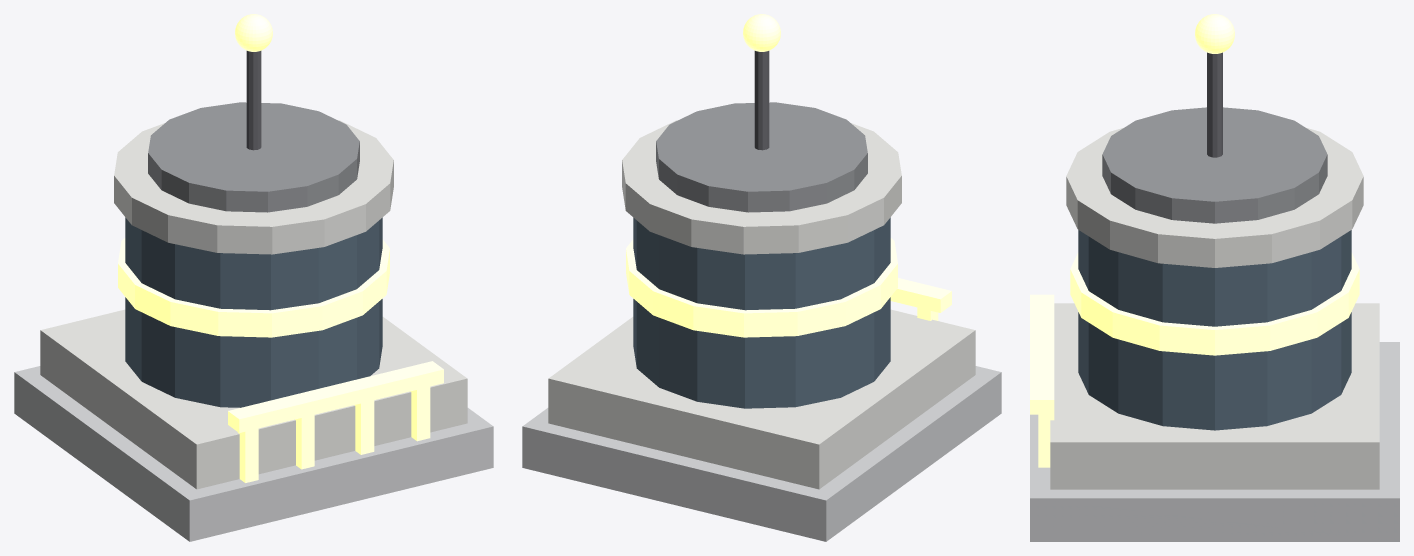
Rendered from exchange_hub.glb.
The picture shows the model from 3 angles, left to right: view 1: azimuth 30°, elevation 25°; view 2: azimuth 150°, elevation 25°; view 3: azimuth 270°, elevation 25°; orthographic projection. The views are drawn at different scales.
Visible parts, largest first — view 1: rotunda, podium_base, podium_upper, dome_base, crown, ticker_ring, portico, spire, Beacon, pillar_2, pillar_3, pillar_0 (+1 smaller); view 2: podium_upper, rotunda, podium_base, dome_base, crown, ticker_ring, spire, portico, Beacon; view 3: rotunda, podium_upper, podium_base, dome_base, crown, ticker_ring, portico, spire, Beacon, pillar_3.
Part boxes in pixels (x1,y1,x2,y2): rotunda: [125, 217, 382, 407]; podium_base: [14, 366, 493, 541]; podium_upper: [40, 309, 467, 489]; dome_base: [148, 102, 359, 212]; crown: [114, 120, 393, 254]; ticker_ring: [118, 238, 389, 337]; portico: [228, 361, 443, 432]; spire: [246, 51, 261, 150]; Beacon: [235, 14, 272, 51]; pillar_2: [354, 400, 374, 454]; pillar_3: [410, 386, 430, 441]; pillar_0: [237, 428, 258, 482]; podium_upper: [548, 309, 975, 489]; rotunda: [633, 217, 890, 408]; podium_base: [522, 366, 1001, 541]; dome_base: [656, 102, 867, 212]; crown: [622, 120, 901, 254]; ticker_ring: [626, 238, 897, 337]; spire: [754, 51, 769, 150]; portico: [890, 278, 951, 312]; Beacon: [743, 14, 780, 51]; rotunda: [1078, 230, 1351, 430]; podium_upper: [1050, 303, 1379, 489]; podium_base: [1030, 342, 1399, 541]; dome_base: [1102, 107, 1327, 223]; crown: [1066, 128, 1363, 267]; ticker_ring: [1070, 252, 1359, 355]; portico: [1030, 294, 1054, 414]; spire: [1207, 52, 1222, 157]; Beacon: [1195, 14, 1234, 53]; pillar_3: [1038, 414, 1054, 467].
Bounding box in the file's own units: 0.92 × 1.23 × 0.92.
